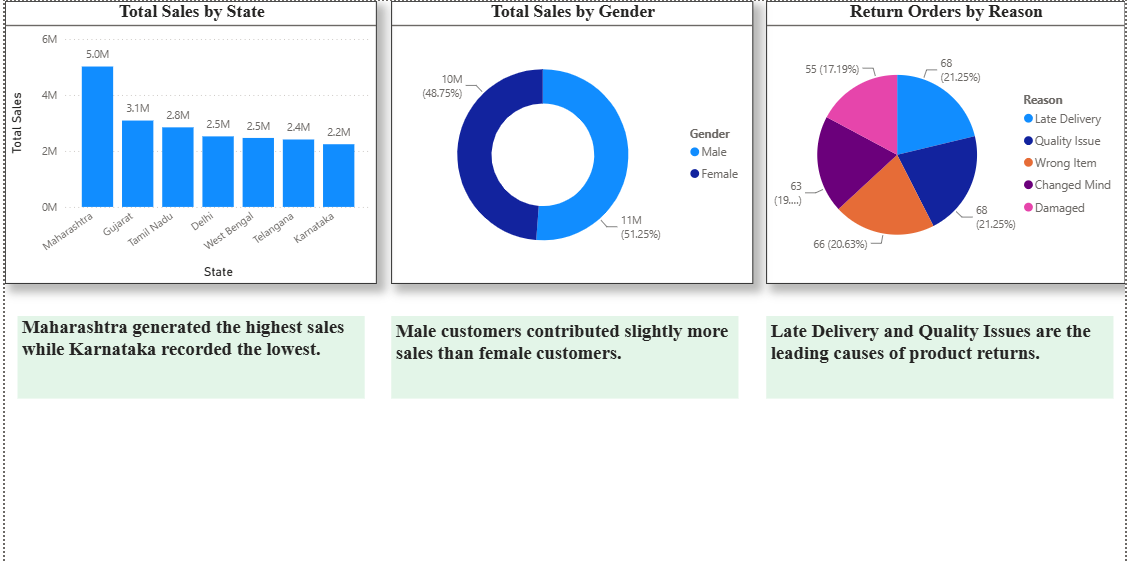

This screenshot's page, from the dashboard's own definition file:
{"tool":"powerbi","page":{"name":"charts","canvas":[1280,720],"ordinal":2},"visuals":[{"type":"donutChart","fields":{"Category":["Customers.Gender"],"Y":["Orders.Total Sales"]},"box":[441.7,0,413.3,323.3],"z":0},{"type":"pieChart","fields":{"Category":["Returns.Reason"],"Y":["Returns.Return Orders"]},"box":[870,0,410,323.3],"z":1000},{"type":"clusteredColumnChart","fields":{"Category":["Customers.State"],"Y":["Orders.Total Sales"]},"box":[0,0,425,323.3],"z":2000},{"type":"textbox","title":"Maharashtra generated the highest sales while Karnataka recorded the lowest.","box":[14.3,360,397.1,94.3],"z":2001},{"type":"textbox","box":[441.4,360,397.1,94.3],"z":2002},{"type":"textbox","box":[870,360,397.1,94.3],"z":2003}]}

Visuals, with their boxes on the page's 1280x720 design canvas (x1, y1, x2, y2). These are canvas units, not pixel positions in the 1142x561 screenshot, which may show the page scaled, cropped or inside an application window:
donutChart - Customers.Gender x Orders.Total Sales: region(442, 0, 855, 323)
pieChart - Returns.Reason x Returns.Return Orders: region(870, 0, 1280, 323)
clusteredColumnChart - Customers.State x Orders.Total Sales: region(0, 0, 425, 323)
"Maharashtra generated the highest sales while Karnataka recorded the lowest." textbox: region(14, 360, 411, 454)
textbox: region(441, 360, 838, 454)
textbox: region(870, 360, 1267, 454)
